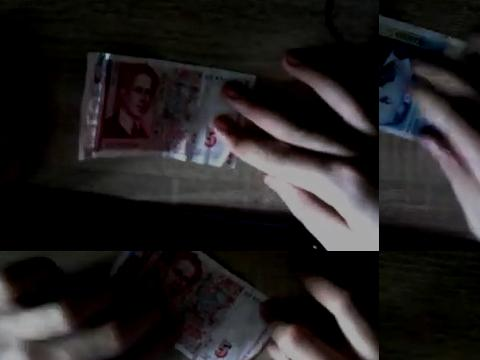20leva: (379, 14, 452, 139)
5leva: (78, 50, 256, 167), (108, 251, 290, 360)
